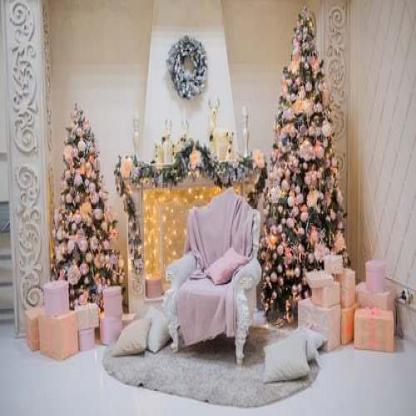present: (336, 264, 371, 345), (20, 311, 77, 360), (353, 303, 402, 355), (301, 268, 340, 305), (360, 263, 390, 296), (40, 283, 71, 311), (75, 301, 101, 332), (99, 312, 123, 342), (100, 282, 122, 302)
x_mas tree: (265, 6, 347, 322), (43, 81, 129, 296)
